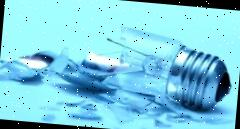lightbulb: (110, 25, 236, 112)
